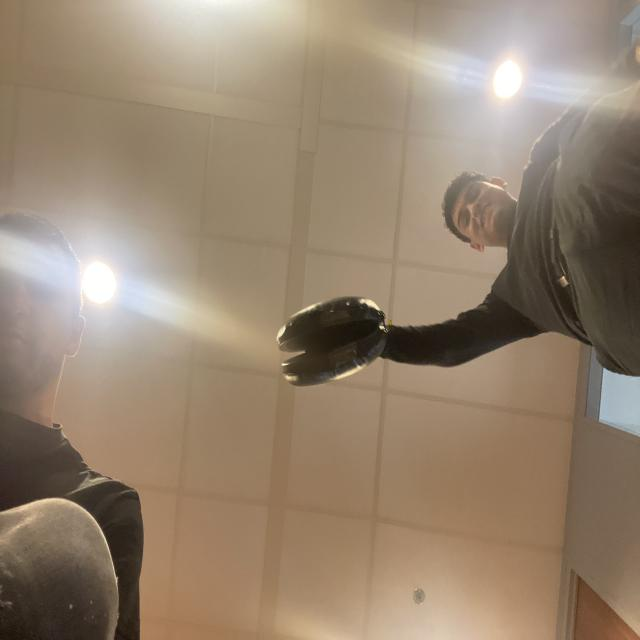paddle: (285, 302, 382, 394)
